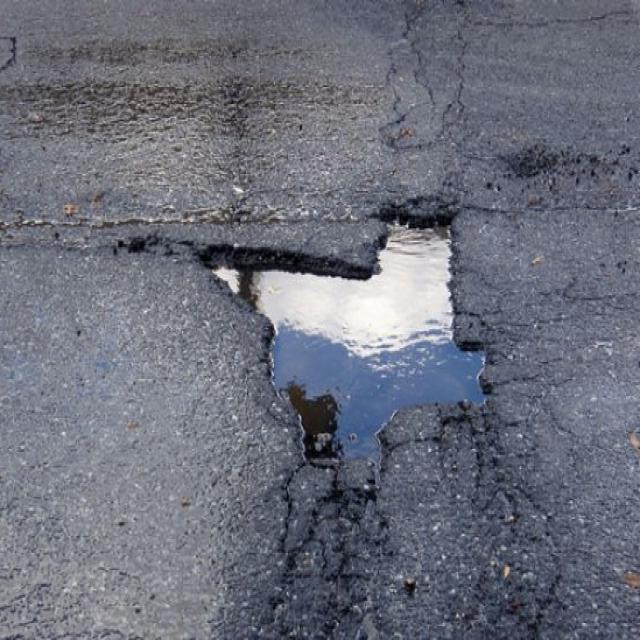Pothole: (208, 200, 503, 480)
